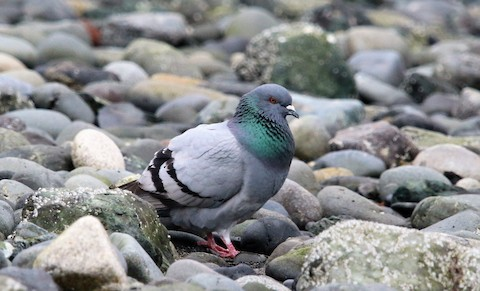pigeon: (120, 76, 298, 265)
